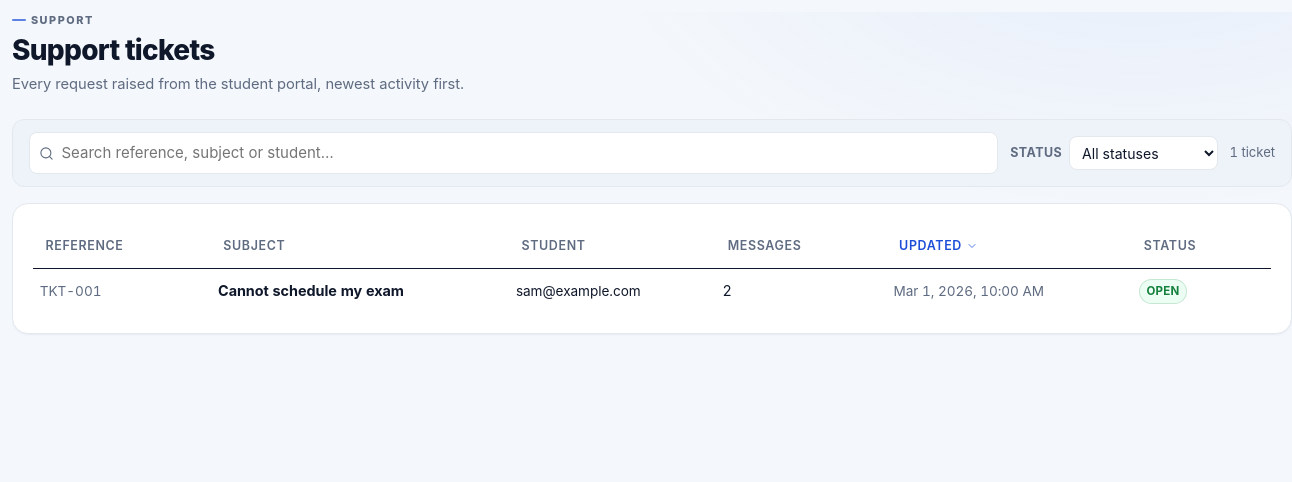
it: Admin support tickets › explains an over-narrow search without losing the status filter
Type "zzzzz" into the search field labelled "Search". click: (514,153)
box: [29,132,998,174]
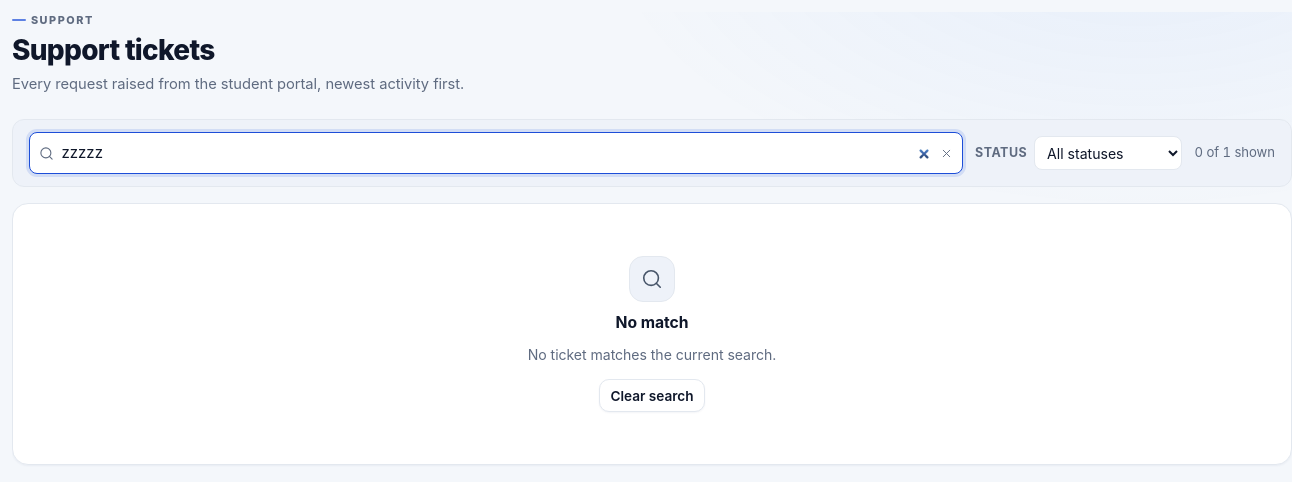
Now the text "No match" is shown, box [616,311,688,335]
Click the button "Clear search". click: (652,396)
box: [598,379,705,412]
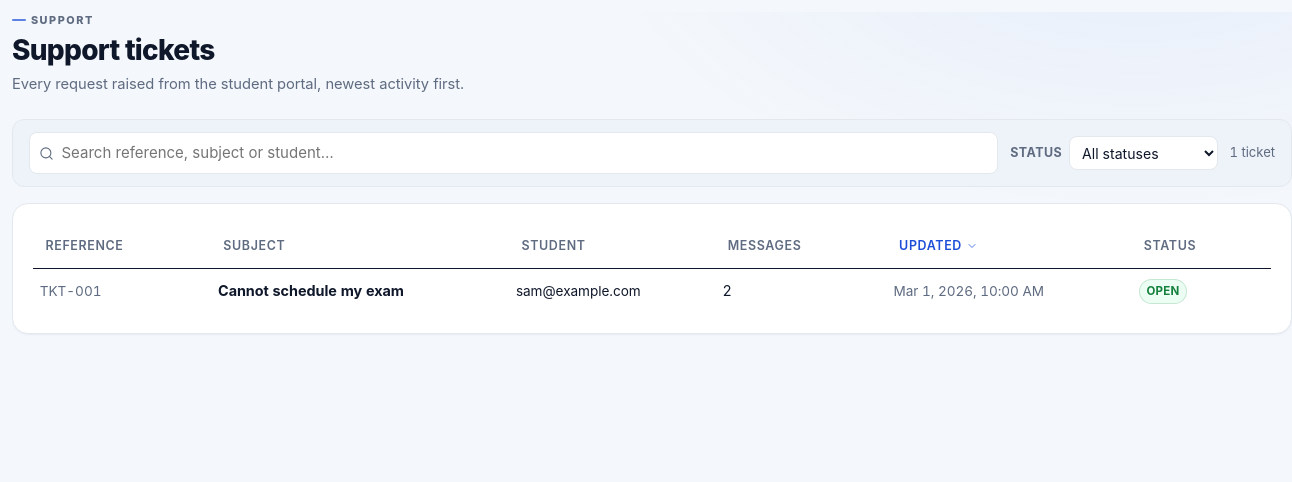
Now the table is shown, box [33,224,1271,313]
